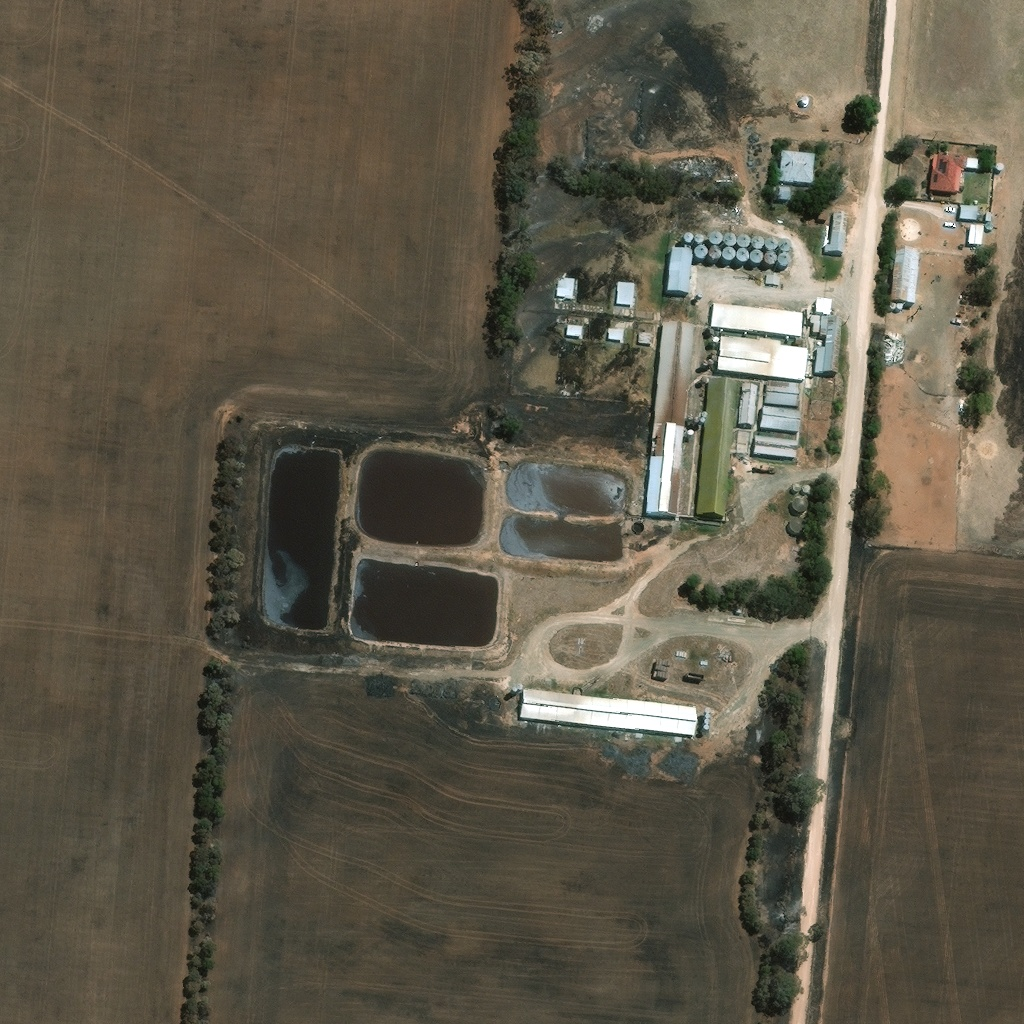0 no-damage: (644, 319, 697, 517), (519, 688, 698, 735), (694, 377, 738, 518), (715, 334, 808, 379), (710, 301, 804, 335), (888, 247, 921, 303), (809, 312, 839, 372), (929, 148, 967, 194), (778, 147, 816, 181), (666, 247, 692, 292), (759, 403, 802, 430), (753, 432, 799, 456), (763, 375, 801, 403), (824, 208, 848, 252), (738, 381, 759, 424), (616, 276, 636, 303), (557, 272, 576, 295), (959, 201, 979, 218), (814, 295, 833, 312), (968, 223, 983, 244), (566, 320, 585, 334), (777, 184, 794, 198), (694, 244, 709, 259), (763, 236, 778, 251), (637, 329, 654, 342), (606, 326, 624, 338), (708, 232, 723, 246), (735, 234, 750, 248), (984, 210, 995, 229), (721, 247, 735, 261), (750, 235, 764, 249), (723, 232, 736, 247), (966, 155, 980, 168), (749, 250, 763, 263), (763, 251, 777, 264), (776, 252, 790, 265), (736, 249, 749, 262), (707, 248, 721, 260), (682, 232, 694, 244), (778, 239, 790, 251), (766, 271, 780, 281), (694, 234, 705, 246), (995, 160, 1006, 170), (711, 337, 719, 345), (701, 725, 709, 733), (704, 708, 712, 716), (703, 714, 711, 721), (702, 720, 710, 726)
3 destroyed: (886, 329, 903, 357)
